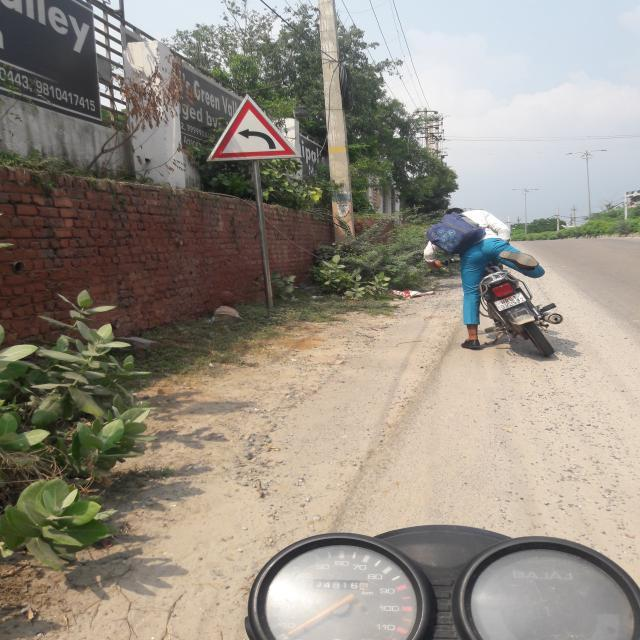left hand curve: (204, 93, 304, 163)
